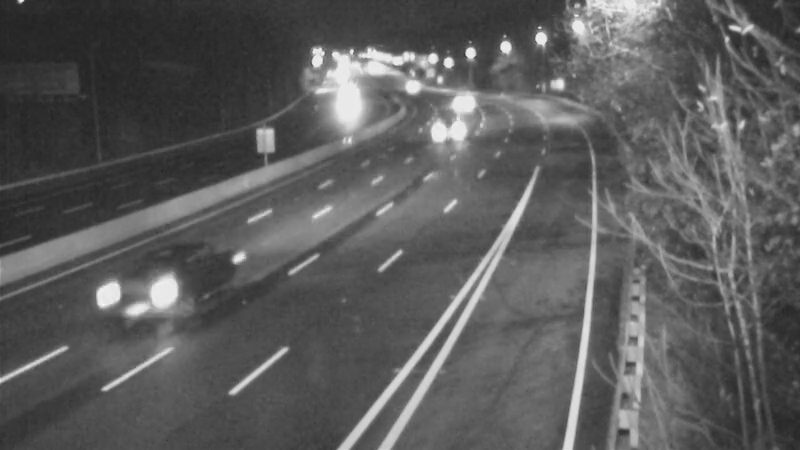vehicle: (86, 259, 166, 339), (380, 61, 430, 111), (433, 75, 483, 125), (422, 109, 472, 159), (321, 82, 371, 132)
